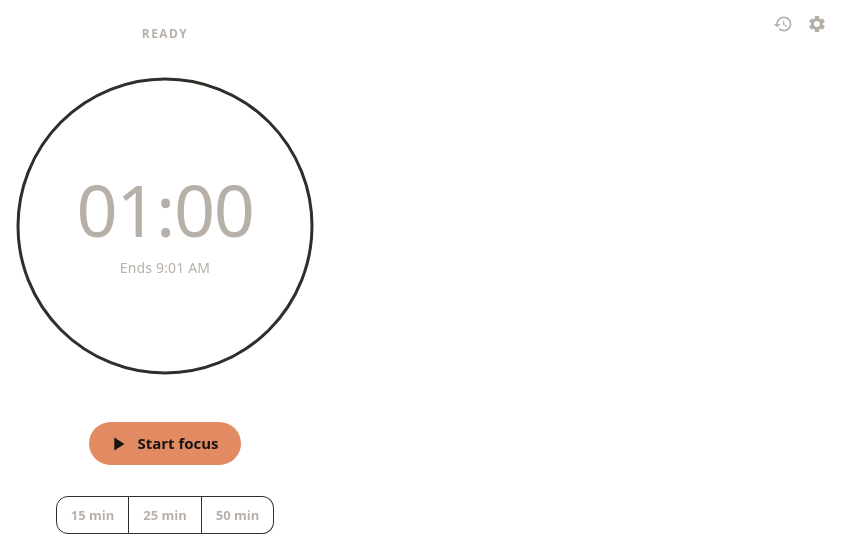
ZenFocusTimer › skips to the next segment
Click the button "15 min".
click(92, 515)  # box [56,496,129,534]
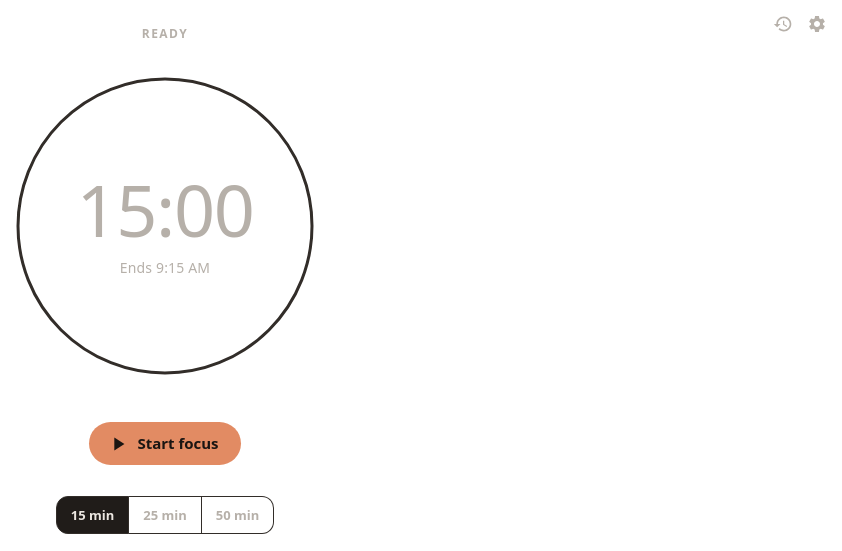
Click the button "Start focus".
click(165, 444)  # box [89,422,241,465]
Wait 1000 ms
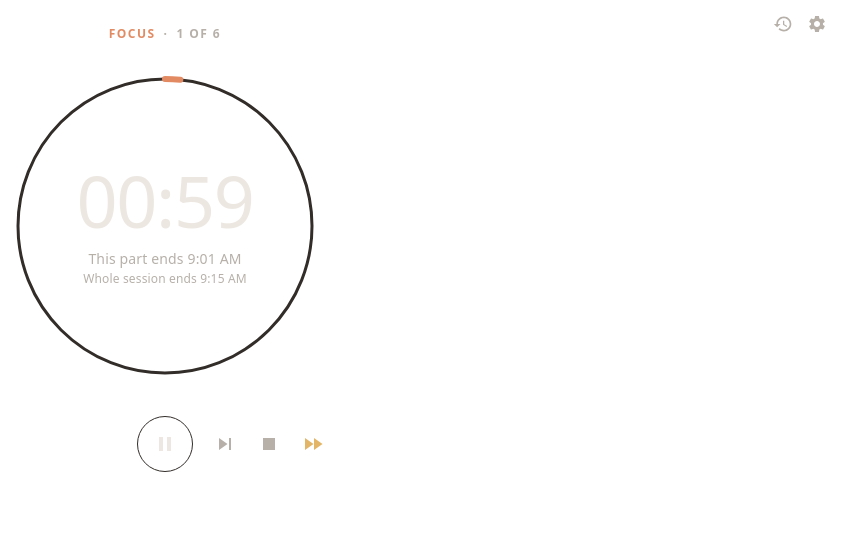
Click the button named "skip to next".
click(225, 444)  # box [205,424,245,464]
Wait 1000 ms
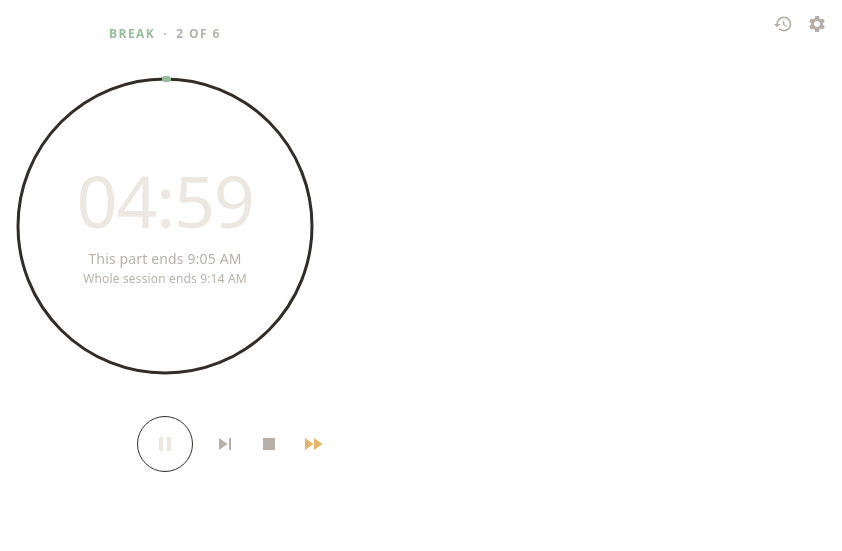
Expected: the text "Break" is shown, [109,25,155,44]
Expected: the text "2 of 6" is shown, [176,25,221,44]
